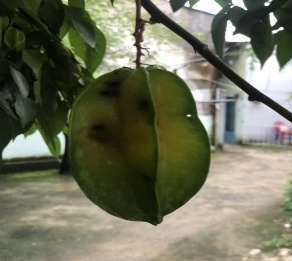Khe: (65, 59, 218, 231)
